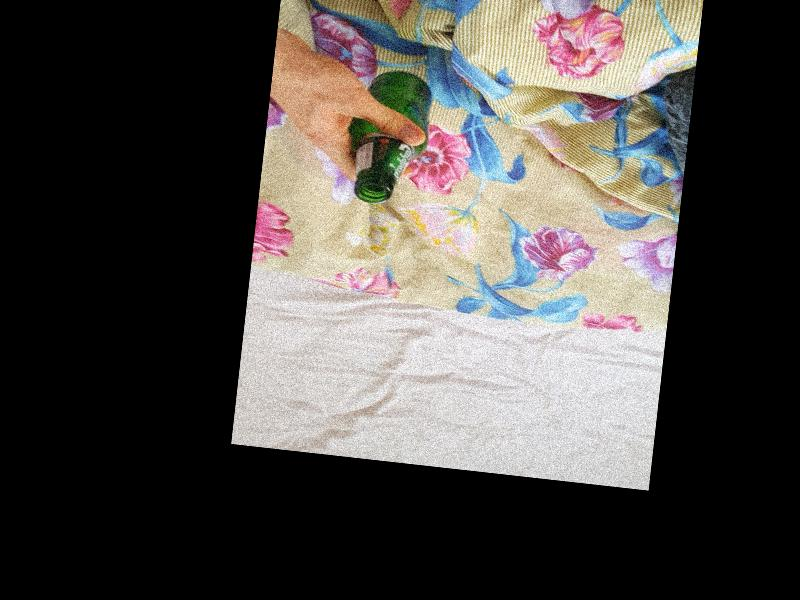Beer: (340, 66, 433, 206)
